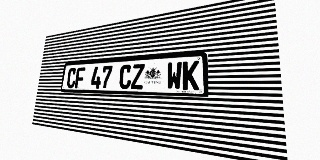4: (90, 66, 102, 89)
7: (100, 66, 113, 89)
C: (119, 64, 132, 89), (66, 68, 77, 88)
F: (74, 67, 85, 88)
K: (182, 60, 199, 90)
W: (166, 61, 182, 90)
Z: (131, 64, 145, 89)
